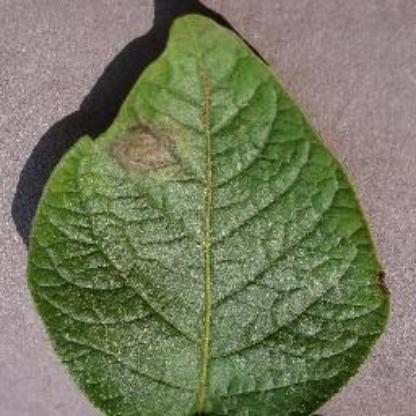Late-Blight: (29, 0, 397, 416)
